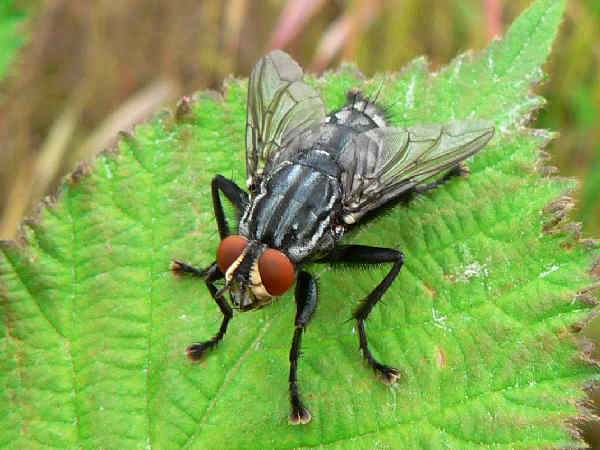house fly: (164, 43, 502, 436)
